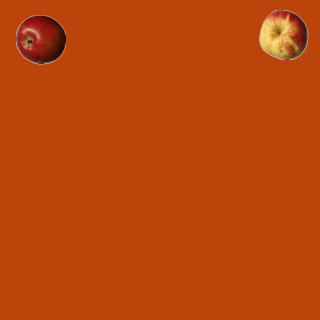Apple Braeburn: (15, 14, 65, 64)
Apple Red Yellow 1: (258, 9, 308, 59)
